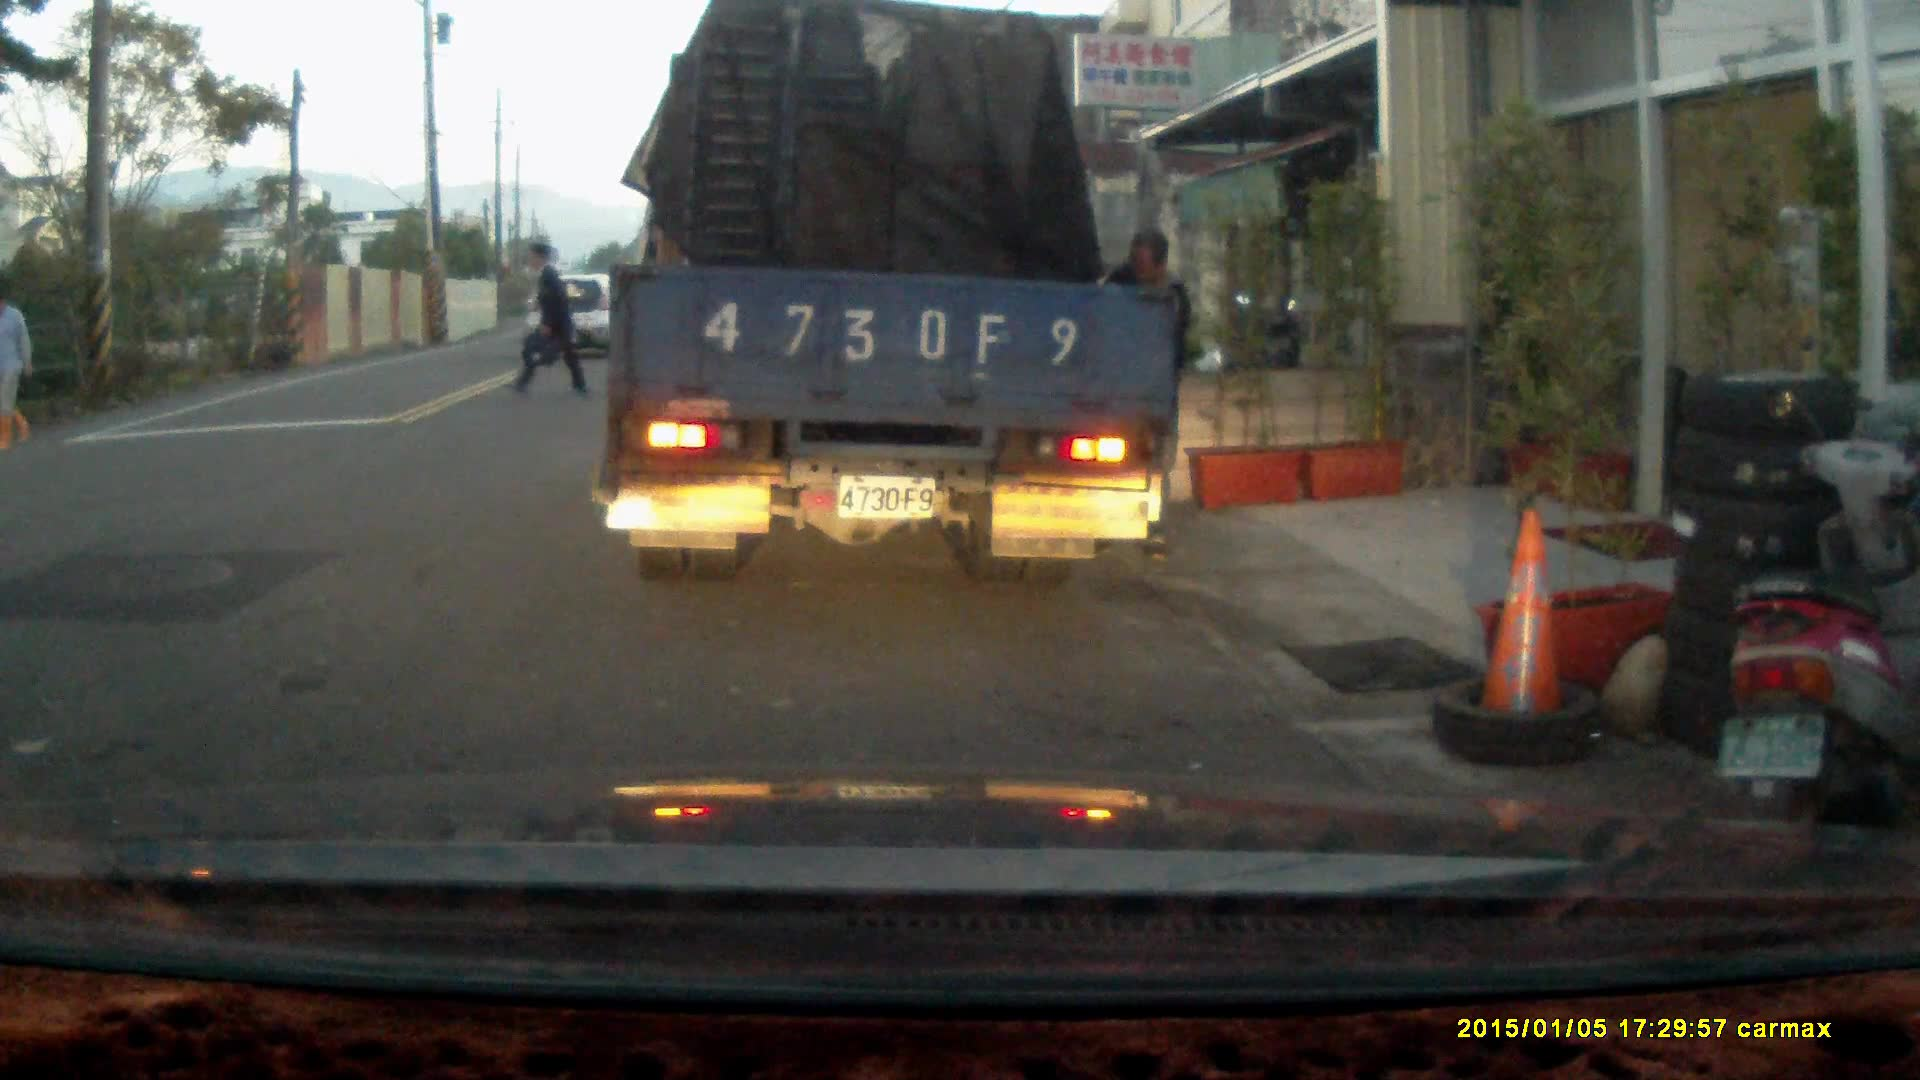pedestrian: (1080, 226, 1192, 561), (511, 240, 588, 409), (0, 290, 33, 451)
vehicle: (604, 23, 1187, 572), (524, 267, 621, 358)
